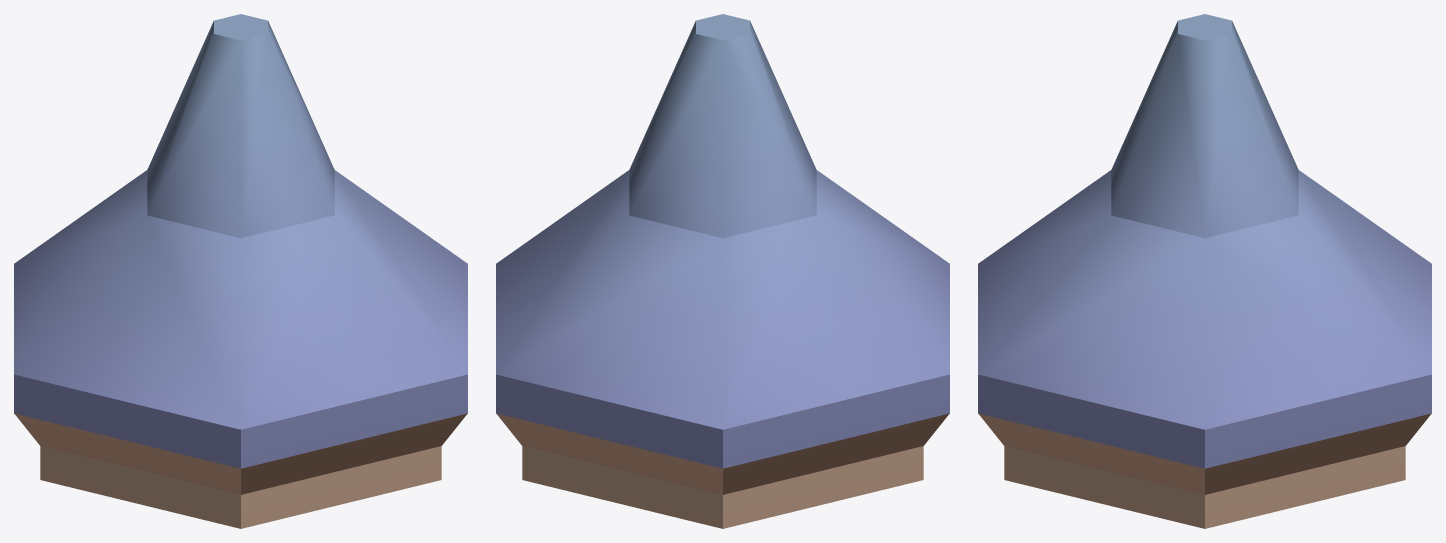
The model's file is tower-hexagon-roof.glb.
3 views of the same model, side by side, from view 1: azimuth 30°, elevation 25°; view 2: azimuth 150°, elevation 25°; view 3: azimuth 270°, elevation 25° (orthographic).
Parts seen in each view (by area): view 1: tower-hexagon-roof; view 2: tower-hexagon-roof; view 3: tower-hexagon-roof.
Part boxes in pixels (x1,y1,x2,y2): tower-hexagon-roof: (14, 14, 467, 528); tower-hexagon-roof: (496, 14, 949, 528); tower-hexagon-roof: (978, 14, 1431, 528).
Size of the model in its own units: 0.9763 by 0.83 by 0.8455.
